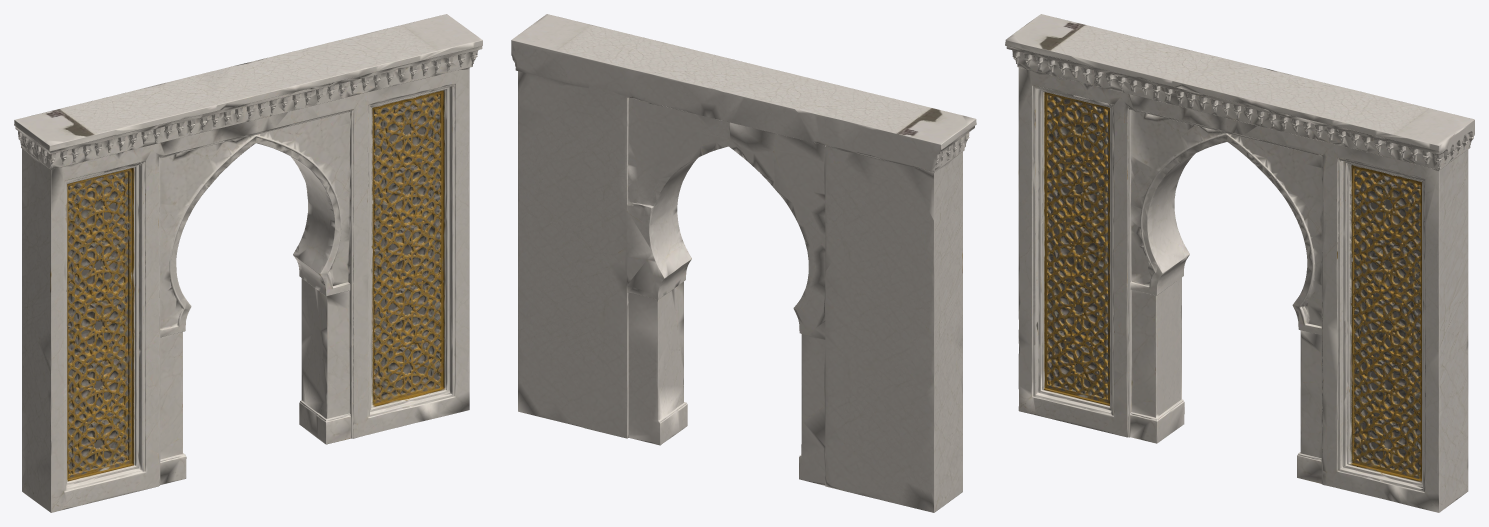
Rendered from hall_arch_wall.glb.
3 views of the same model, side by side, from view 1: azimuth 30°, elevation 25°; view 2: azimuth 150°, elevation 25°; view 3: azimuth 330°, elevation 25° (orthographic).
Size of the model in its own units: 9.71 by 8 by 1.41.
1 material, 1 textured.
